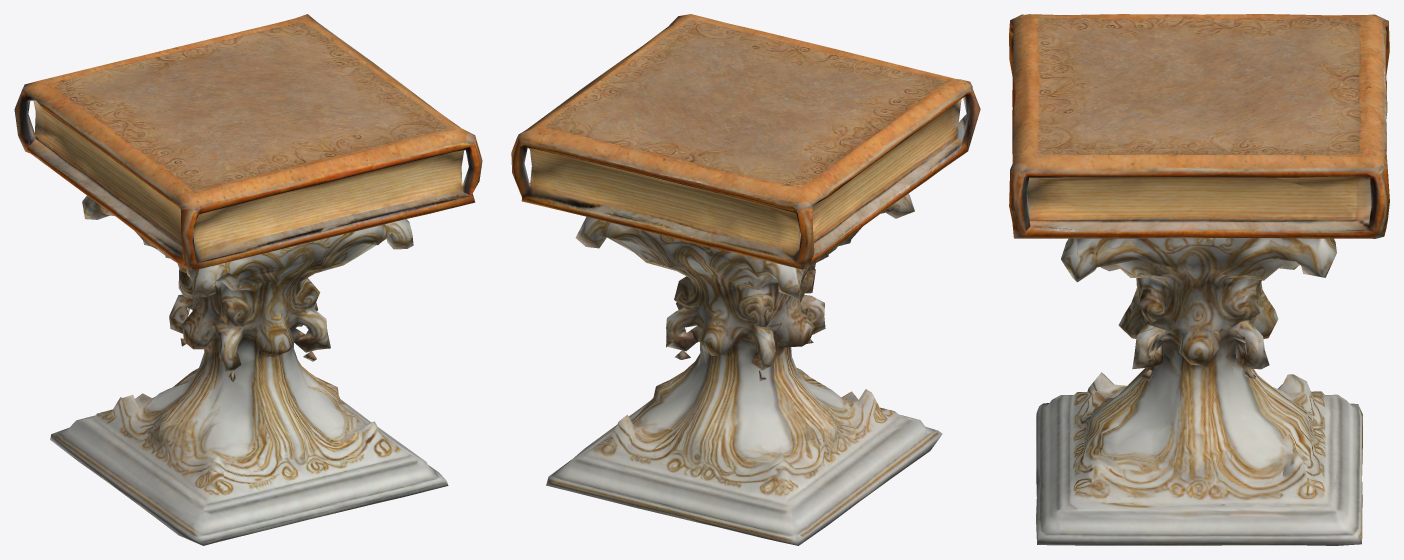
File: testLore.glb
3 renders of one model, left to right at view 1: azimuth 30°, elevation 25°; view 2: azimuth 150°, elevation 25°; view 3: azimuth 270°, elevation 25°, orthographic. The views are drawn at different scales.
Parts seen in each view (by area): view 1: Mesh_0; view 2: Mesh_0; view 3: Mesh_0.
Boxes of the visible parts, <box> form: Mesh_0: <box>14,14,482,545</box>; Mesh_0: <box>511,14,980,545</box>; Mesh_0: <box>1009,14,1389,545</box>.
Size of the model in its own units: 0.8811 by 1 by 0.8772.
1 material, 1 textured.
